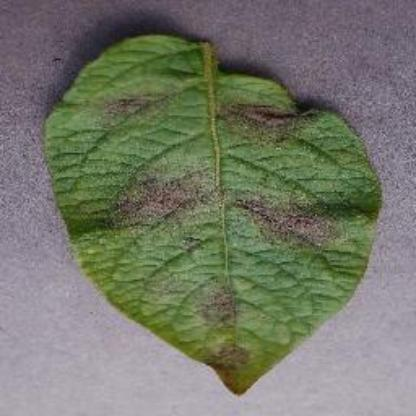Late-Blight: (40, 20, 390, 398)
